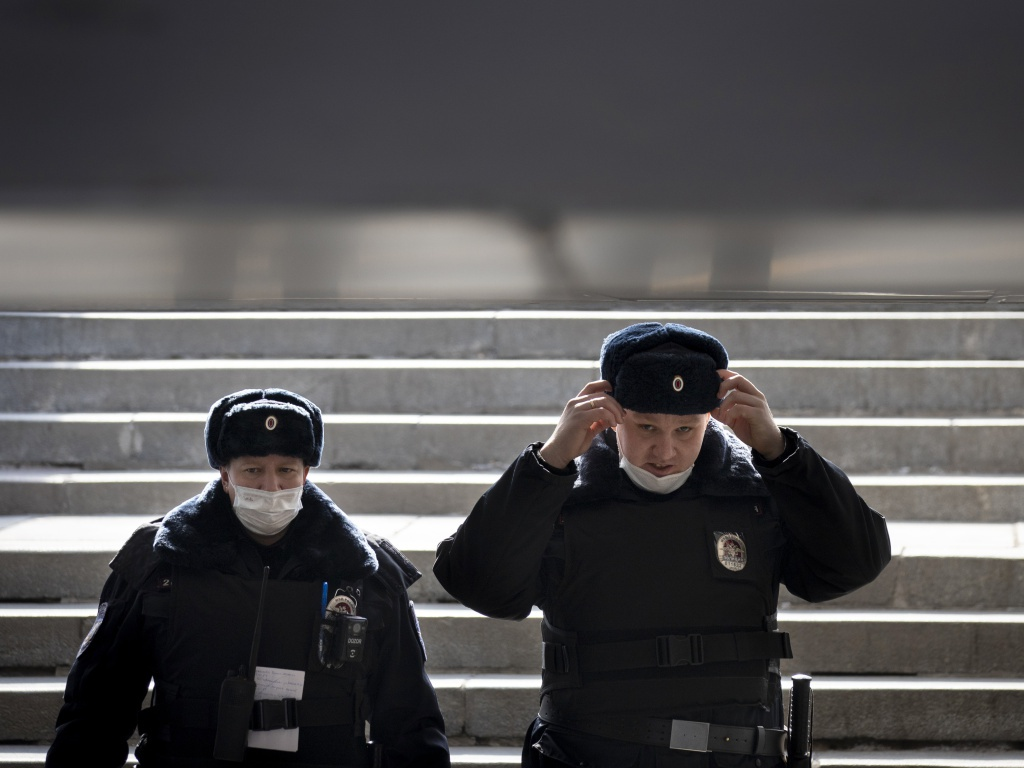mouth: (646, 461, 676, 473)
nose: (650, 447, 677, 462)
